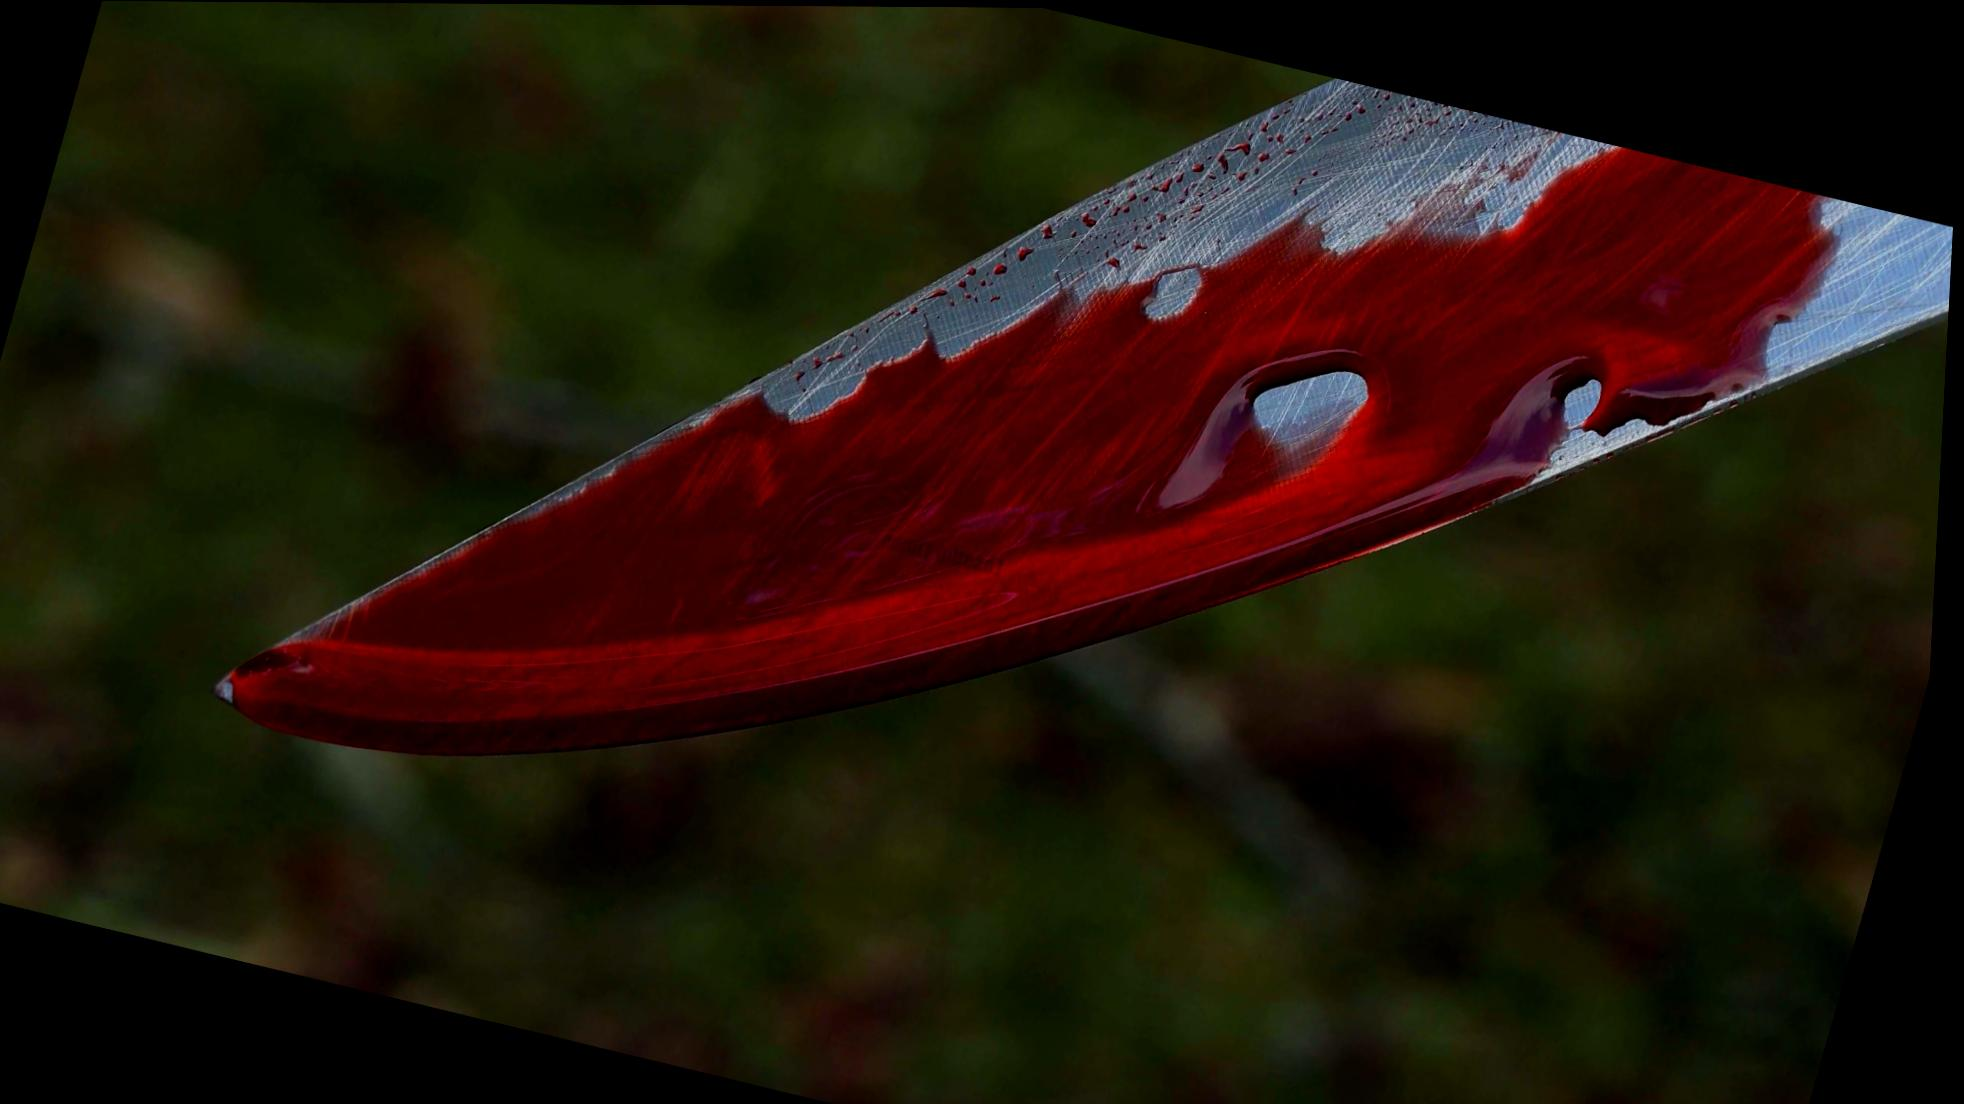Fire: (225, 76, 1956, 752)
